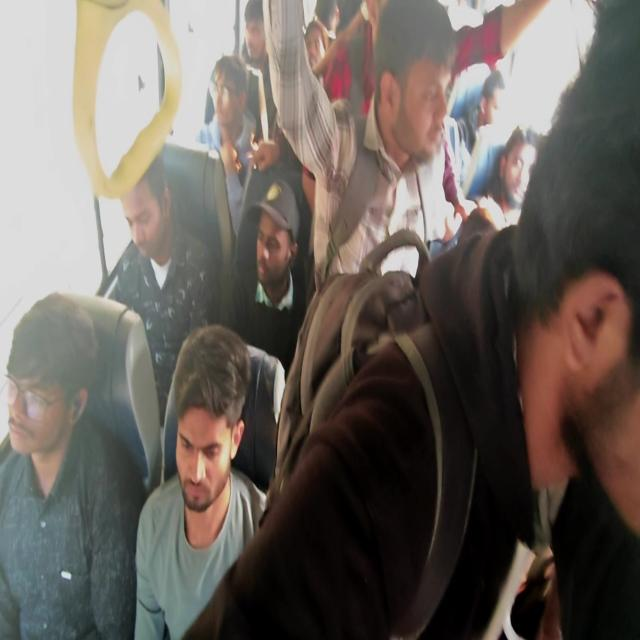person: (405, 126, 640, 639), (139, 317, 255, 586), (0, 283, 94, 509), (362, 0, 462, 173), (113, 139, 178, 291), (247, 168, 296, 330), (209, 49, 257, 146), (473, 74, 512, 163), (296, 0, 332, 95), (502, 136, 545, 214), (245, 0, 271, 59)
